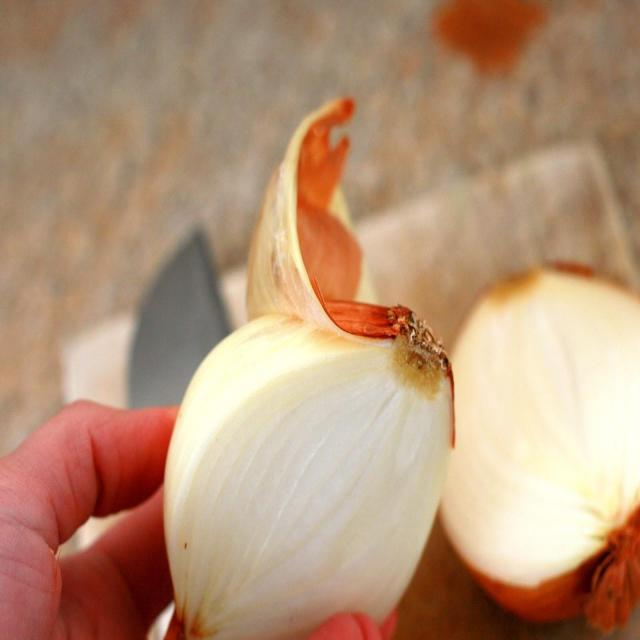Onion: (144, 316, 453, 640), (449, 259, 640, 628)
